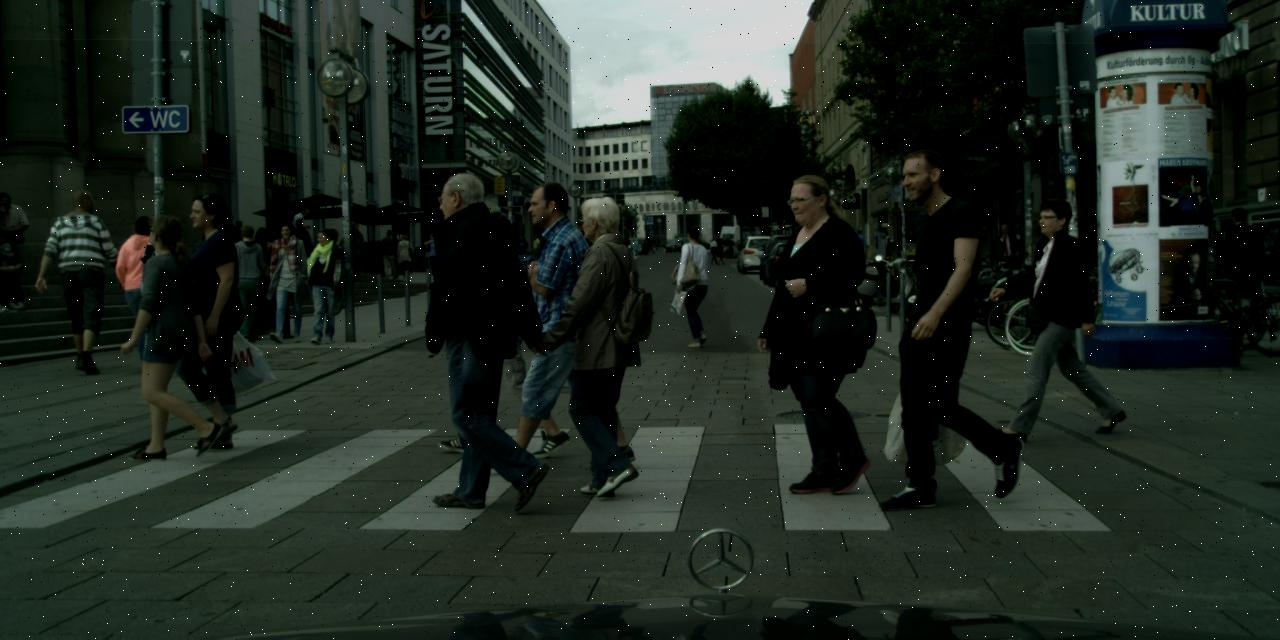ped: (877, 149, 1017, 494), (415, 172, 549, 500), (758, 174, 886, 487), (542, 197, 662, 492), (497, 182, 611, 462), (165, 193, 268, 445), (454, 210, 554, 454), (1009, 196, 1107, 435), (125, 214, 222, 454), (47, 188, 121, 372), (117, 216, 175, 358), (261, 220, 311, 341), (671, 225, 720, 344), (221, 225, 269, 341), (301, 229, 347, 343), (244, 228, 289, 338), (1219, 207, 1262, 312), (1196, 218, 1230, 304), (991, 224, 1019, 291), (341, 222, 365, 282), (291, 207, 311, 255), (289, 219, 309, 267), (381, 228, 400, 278), (396, 235, 414, 280), (426, 232, 443, 277), (424, 234, 440, 274), (392, 230, 406, 266), (364, 239, 385, 263), (852, 229, 866, 264), (514, 233, 527, 266), (508, 234, 519, 262), (530, 234, 540, 264), (709, 237, 720, 264), (715, 238, 725, 264), (629, 239, 637, 258), (338, 244, 342, 268), (645, 236, 651, 251), (623, 237, 629, 252), (655, 238, 659, 250)
